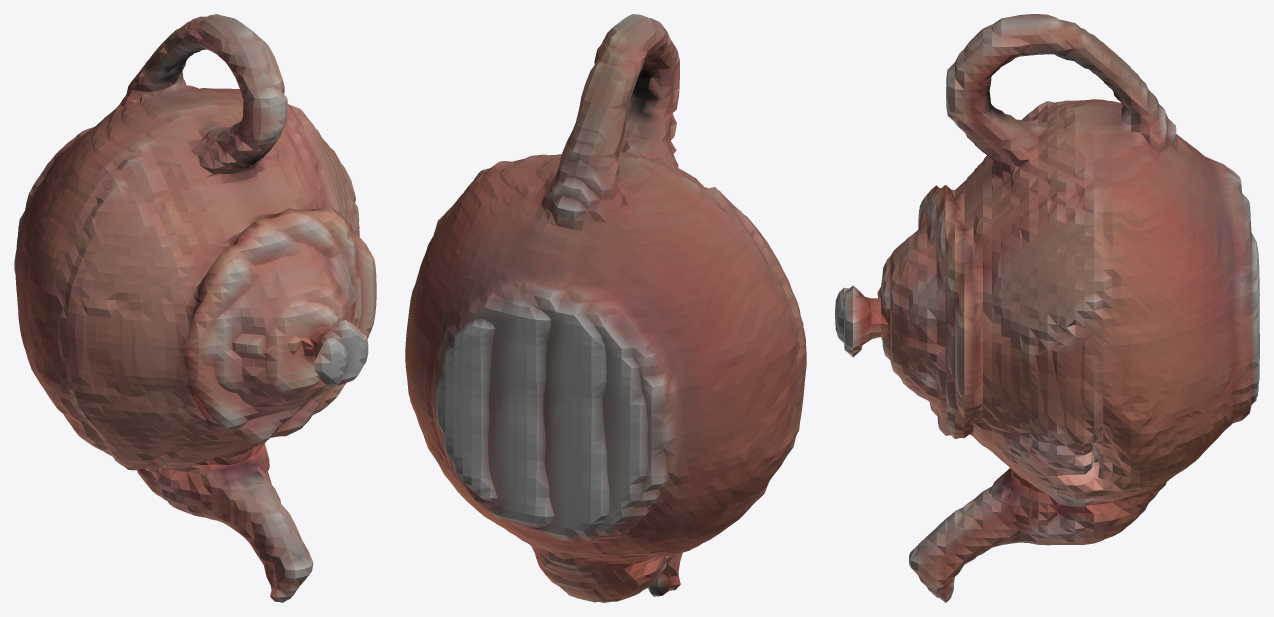
The model's file is assembly.glb.
The picture shows the model from 3 angles, left to right: view 1: azimuth 30°, elevation 25°; view 2: azimuth 150°, elevation 25°; view 3: azimuth 270°, elevation 25°; orthographic projection. The views are drawn at different scales.
Visible parts, largest first — view 1: part-000, part-005, part-001, part-004, part-002; view 2: part-000, part-005, part-004; view 3: part-004, part-000, part-001, part-003.
Boxes of the visible parts, x1,y1,x2,y2 form: part-000: [53, 14, 336, 602]; part-005: [14, 131, 198, 470]; part-001: [198, 261, 368, 417]; part-004: [236, 89, 376, 410]; part-002: [284, 554, 313, 586]; part-000: [445, 14, 712, 602]; part-005: [612, 187, 806, 556]; part-004: [405, 154, 547, 510]; part-004: [919, 166, 1259, 506]; part-000: [919, 14, 1259, 602]; part-001: [835, 210, 919, 395]; part-003: [899, 285, 919, 388].
Size of the model in its own units: 0.0601 by 0.1 by 0.0669.
